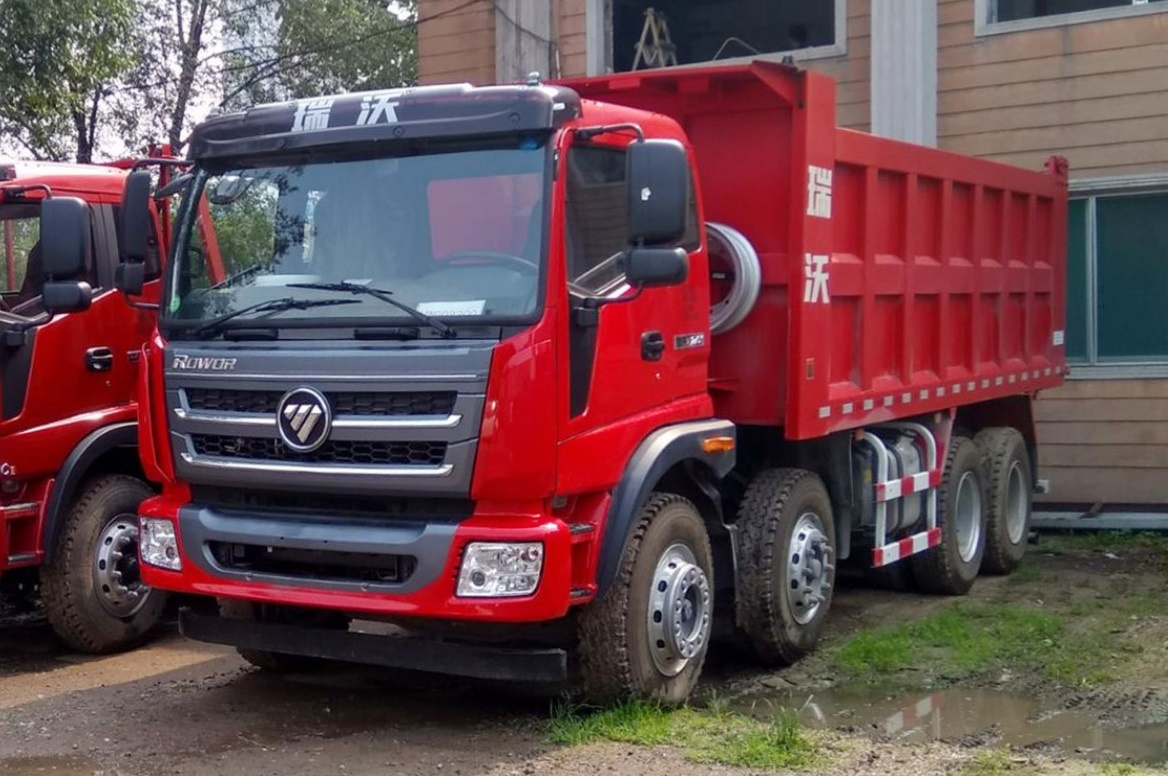heavy truck: (113, 73, 1072, 690)
